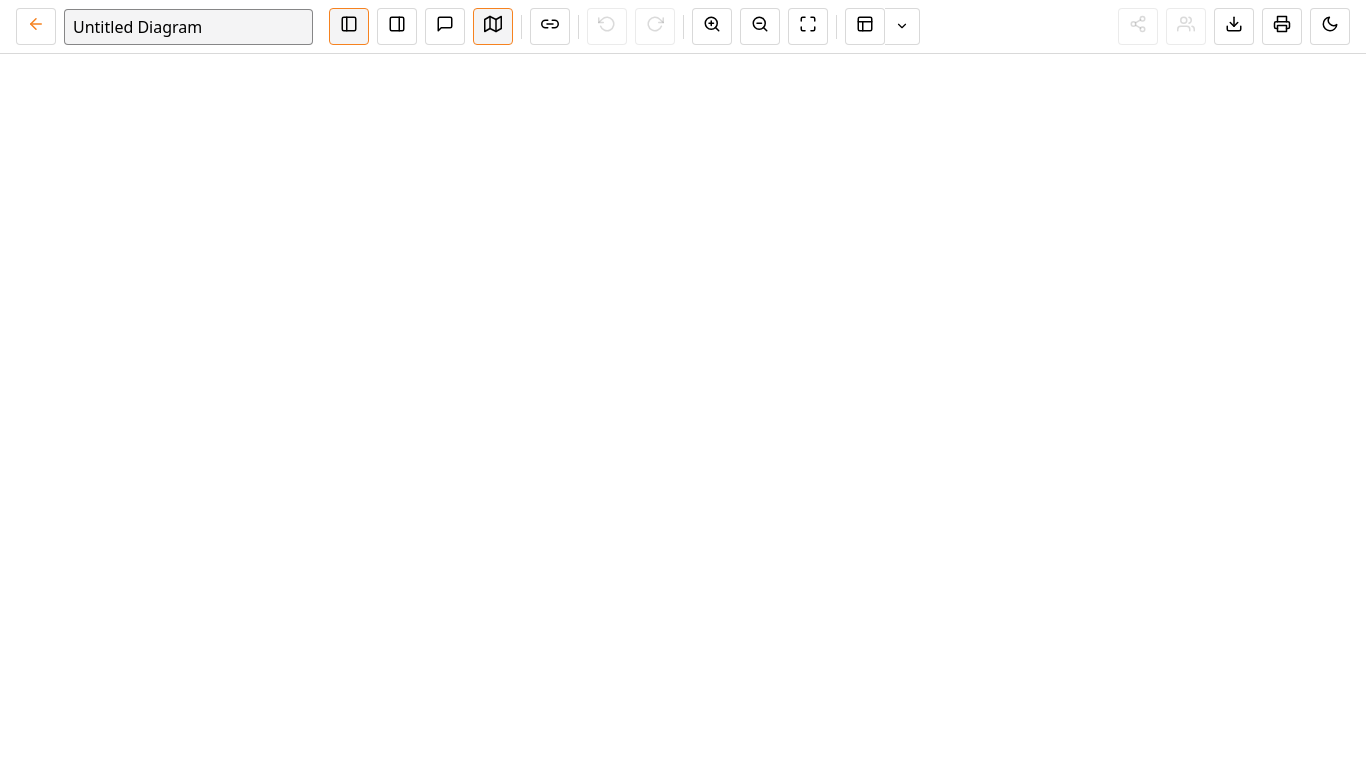
Test: Toolbar › enables the Connect nodes button with at least two nodes and opens its dialog (Bug 8)
Click the button titled "Connect nodes" at (550, 26), box [530, 8, 570, 45]
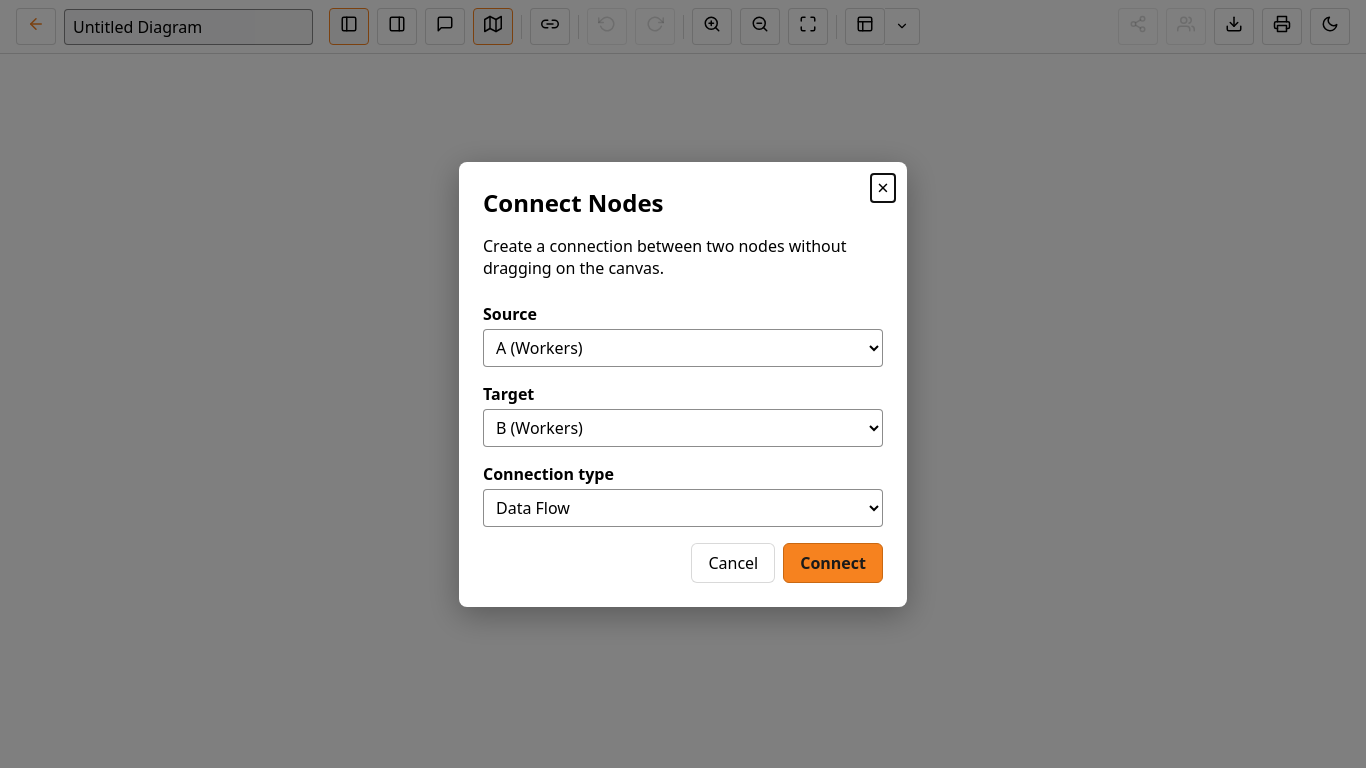
Expected: the dialog "Connect Nodes" is shown, [459, 162, 907, 606]
